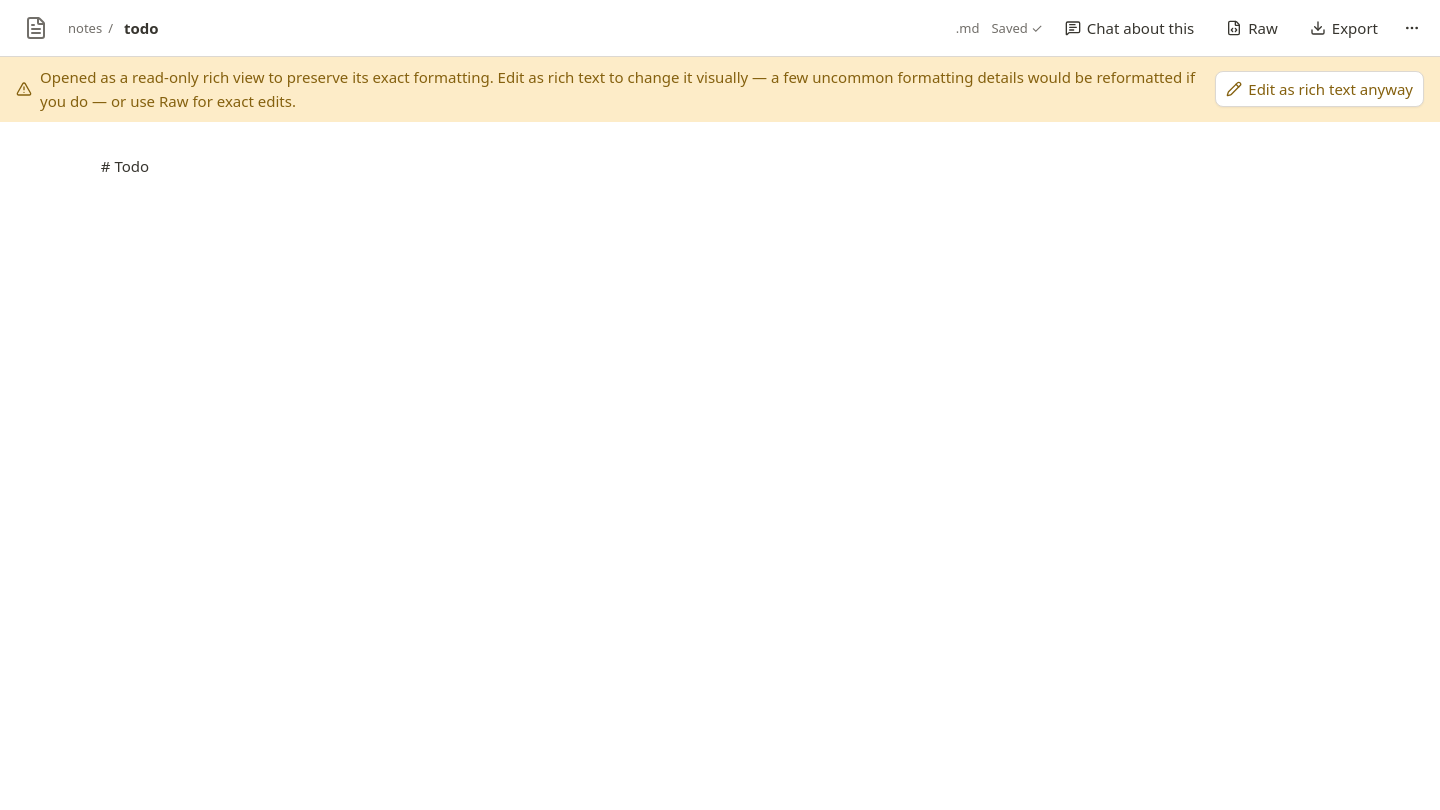
Test: deleting a nested markdown note (NoteEditor) returns to the tree, never re-fetching the parent as a note
Expected: the field showing "todo" is shown, [119,15,950,41]
Click the button named "note actions" at (1412, 28), box [1400,16,1424,40]
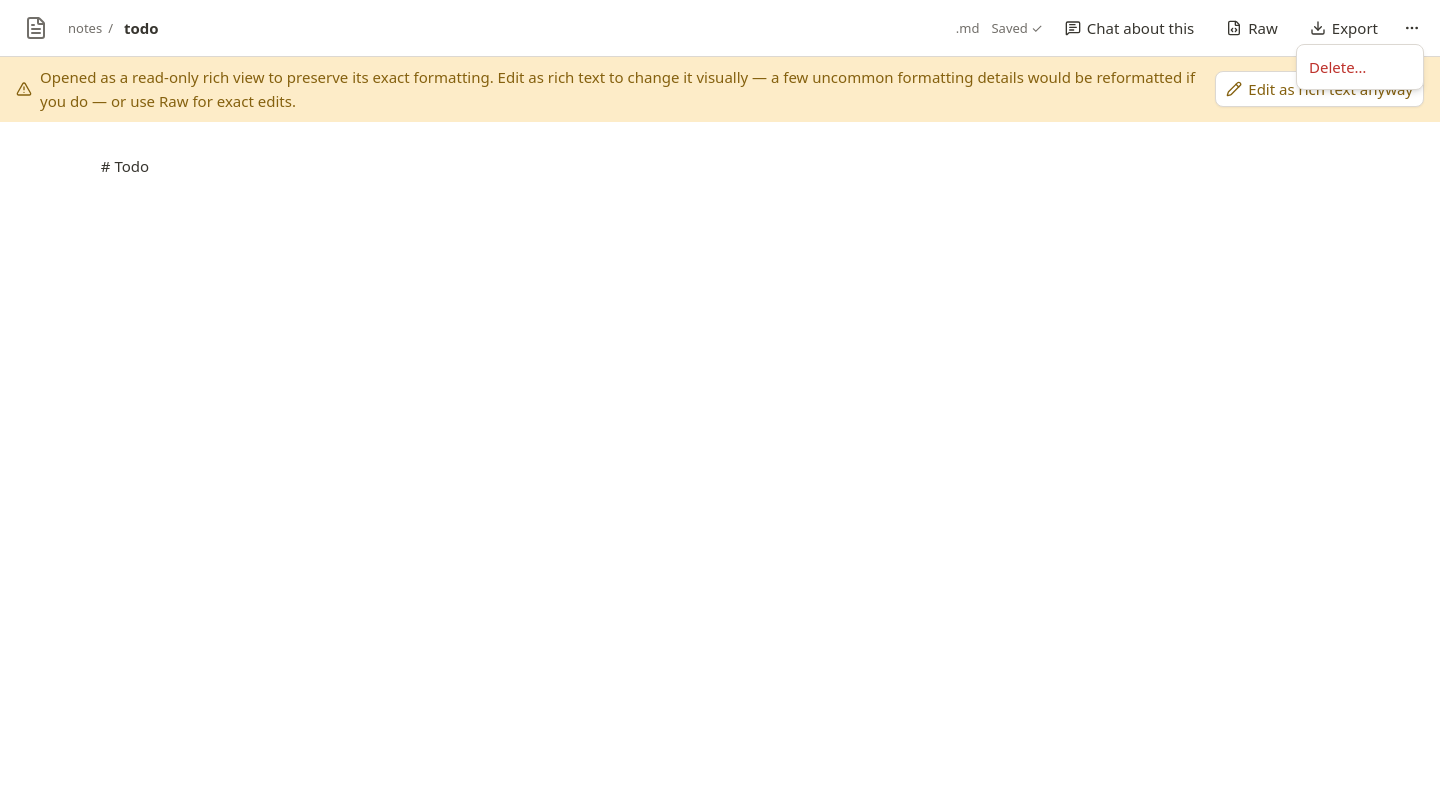
Click the menu item "Delete…" at (1338, 67), box [1309,57,1366,77]
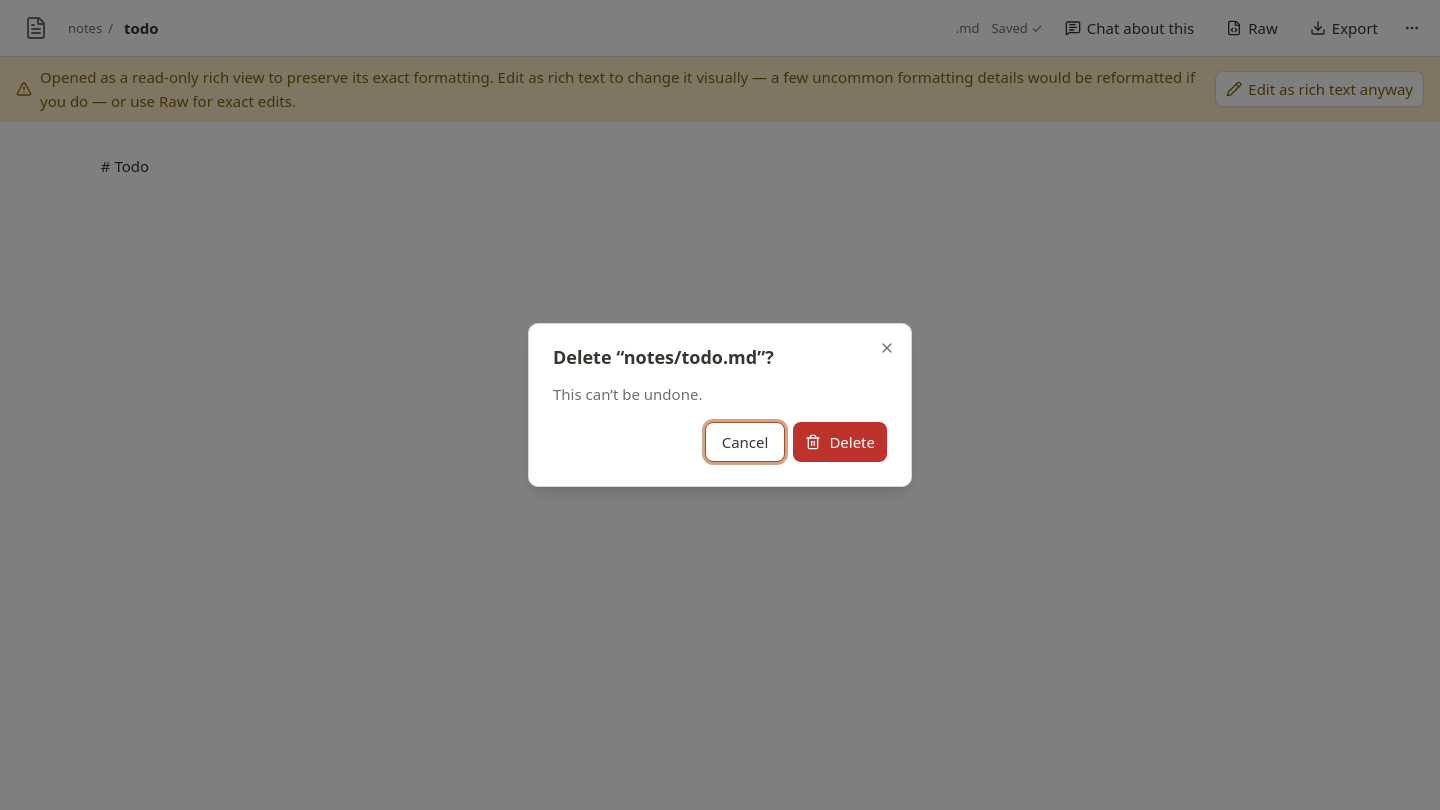
Click the button "Delete" at (840, 442), box [793,422,887,462]
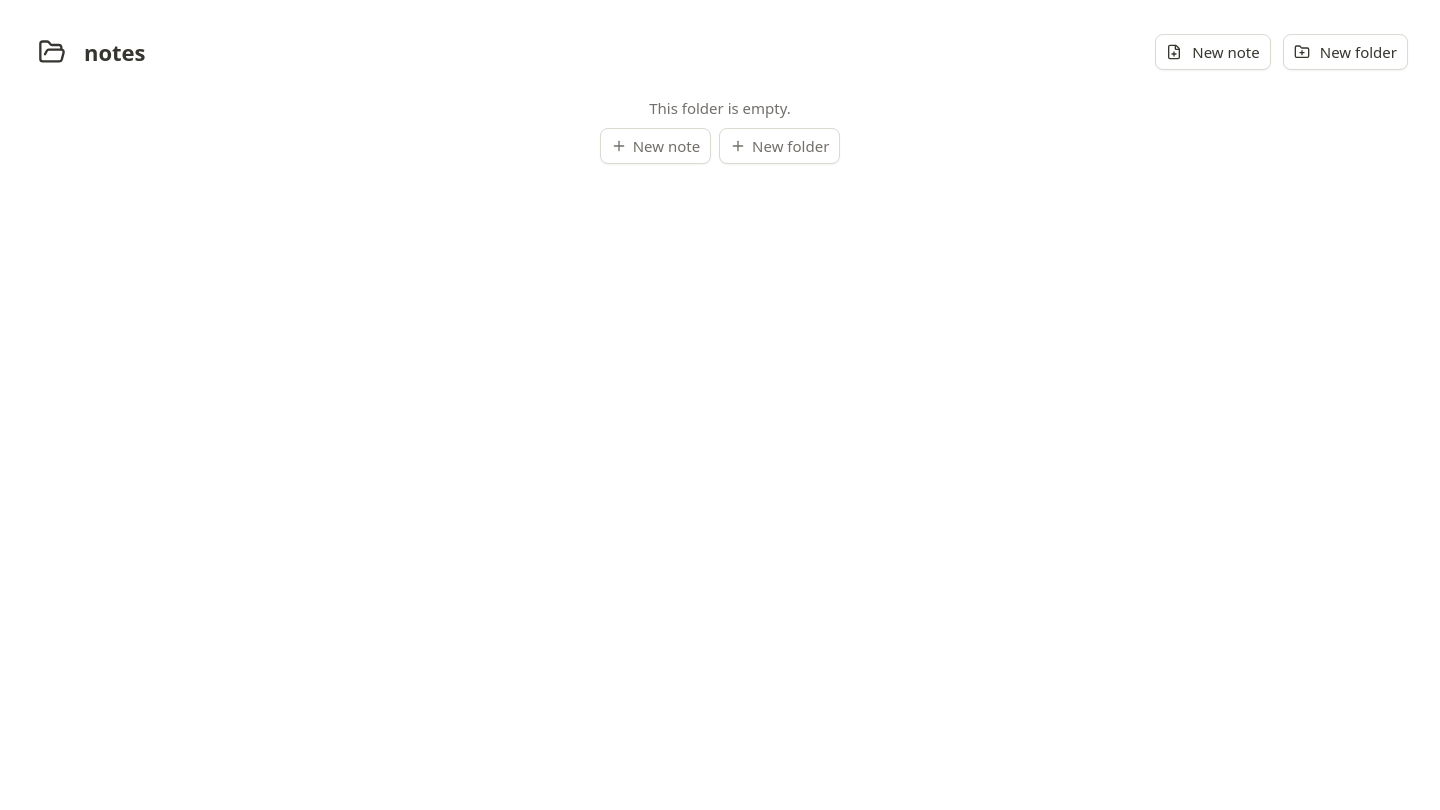
Now the text "This folder is empty." is shown, box [649,96,791,120]
